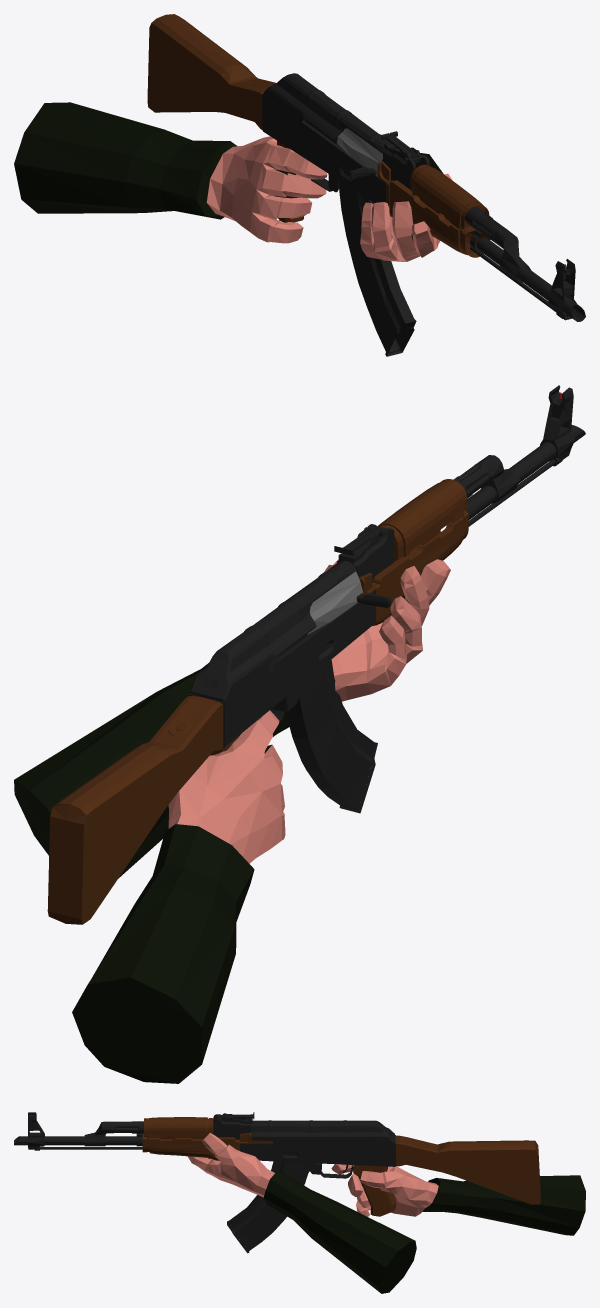
3 views of the same model, one above another, from view 1: azimuth 30°, elevation 25°; view 2: azimuth 150°, elevation 25°; view 3: azimuth 270°, elevation 25° (orthographic). The views are drawn at different scales.
Parts seen in each view (by area): view 1: armmesh_Mesh.003, poignee_poignee_poignee_ak-47.004, chargeur_chargeur_chargeur_ak-47.071, culasse_culasse_culasse_ak-47.067; view 2: armmesh_Mesh.003, poignee_poignee_poignee_ak-47.004, chargeur_chargeur_chargeur_ak-47.071, culasse_culasse_culasse_ak-47.067; view 3: poignee_poignee_poignee_ak-47.004, armmesh_Mesh.003, chargeur_chargeur_chargeur_ak-47.071.
Boxes of the visible parts, left/top/right/bottom form: armmesh_Mesh.003: left=14, top=102, right=452, bottom=261; poignee_poignee_poignee_ak-47.004: left=147, top=14, right=585, bottom=321; chargeur_chargeur_chargeur_ak-47.071: left=338, top=180, right=416, bottom=356; culasse_culasse_culasse_ak-47.067: left=337, top=128, right=382, bottom=179; armmesh_Mesh.003: left=14, top=537, right=450, bottom=1083; poignee_poignee_poignee_ak-47.004: left=47, top=385, right=585, bottom=924; chargeur_chargeur_chargeur_ak-47.071: left=286, top=659, right=377, bottom=813; culasse_culasse_culasse_ak-47.067: left=307, top=571, right=391, bottom=634; poignee_poignee_poignee_ak-47.004: left=14, top=1112, right=540, bottom=1216; armmesh_Mesh.003: left=187, top=1133, right=585, bottom=1293; chargeur_chargeur_chargeur_ak-47.071: left=227, top=1161, right=309, bottom=1253.
Bounding box in the file's own units: 1.53 × 1.16 × 4.1.
